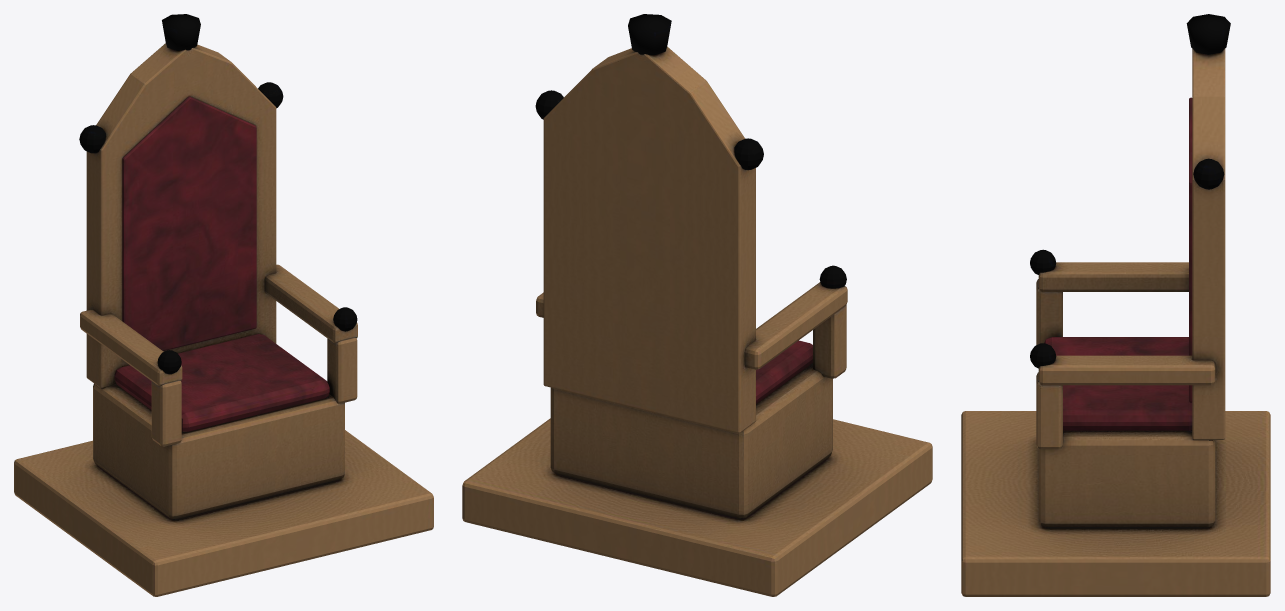
Rendered from deco_trono.glb.
3 views of the same model, side by side, from view 1: azimuth 30°, elevation 25°; view 2: azimuth 150°, elevation 25°; view 3: azimuth 270°, elevation 25° (orthographic). The views are drawn at different scales.
Parts seen in each view (by area): view 1: deco_trono_tronco; view 2: deco_trono_tronco; view 3: deco_trono_tronco.
Part boxes in pixels (bbox=[...]): deco_trono_tronco: bbox=[14, 14, 433, 596]; deco_trono_tronco: bbox=[462, 14, 932, 596]; deco_trono_tronco: bbox=[961, 14, 1270, 596].
Bounding box in the file's own units: 1.6 × 2.52 × 1.4.
Materials: 1 (1 with a texture image).
